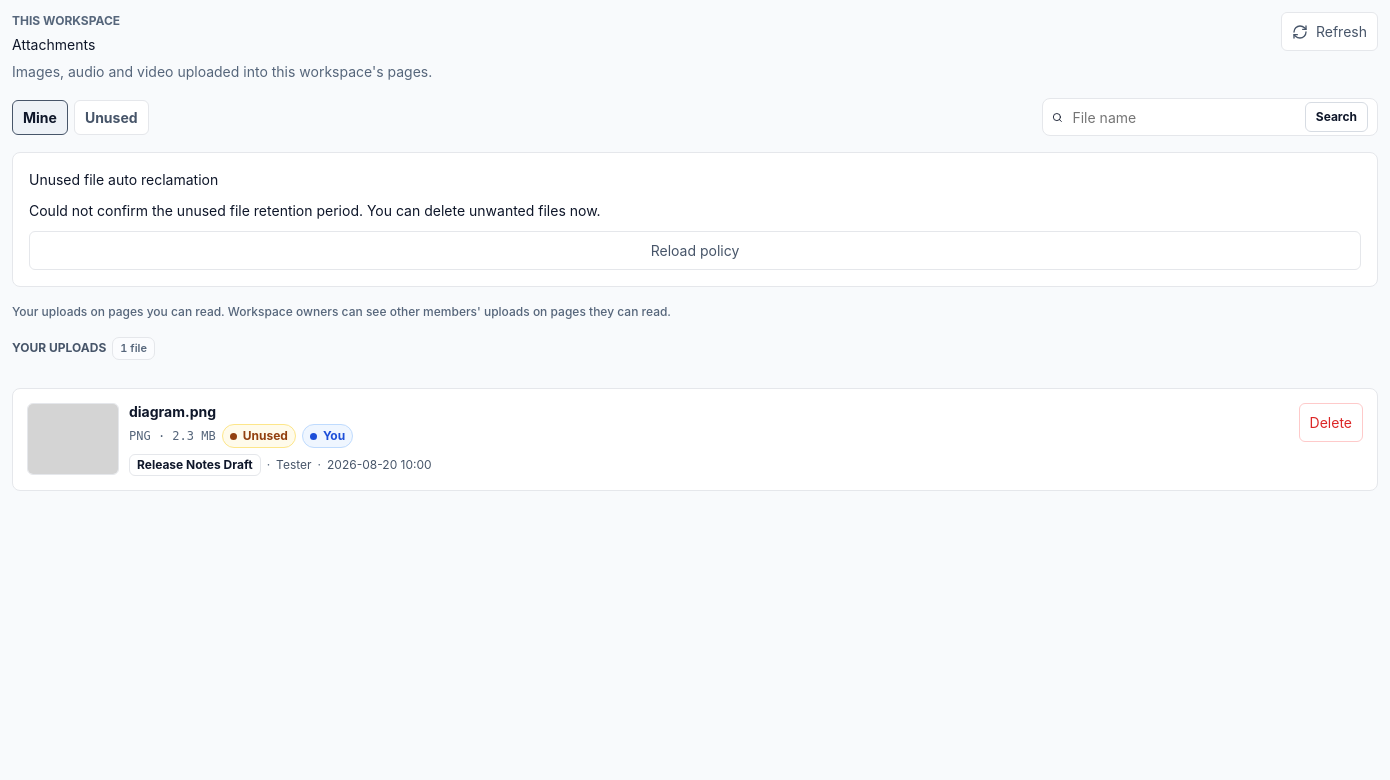
Test: AttachmentsSection › explains a 409 as someone else using the file, not as a generic failure
Check: the text "diagram.png" is shown, box [129,402,216,420]
What coordinates should you click on to do the following:
click the button "Delete"
I would click on:
 (1331, 422)
Its box is [1299,402,1363,442].
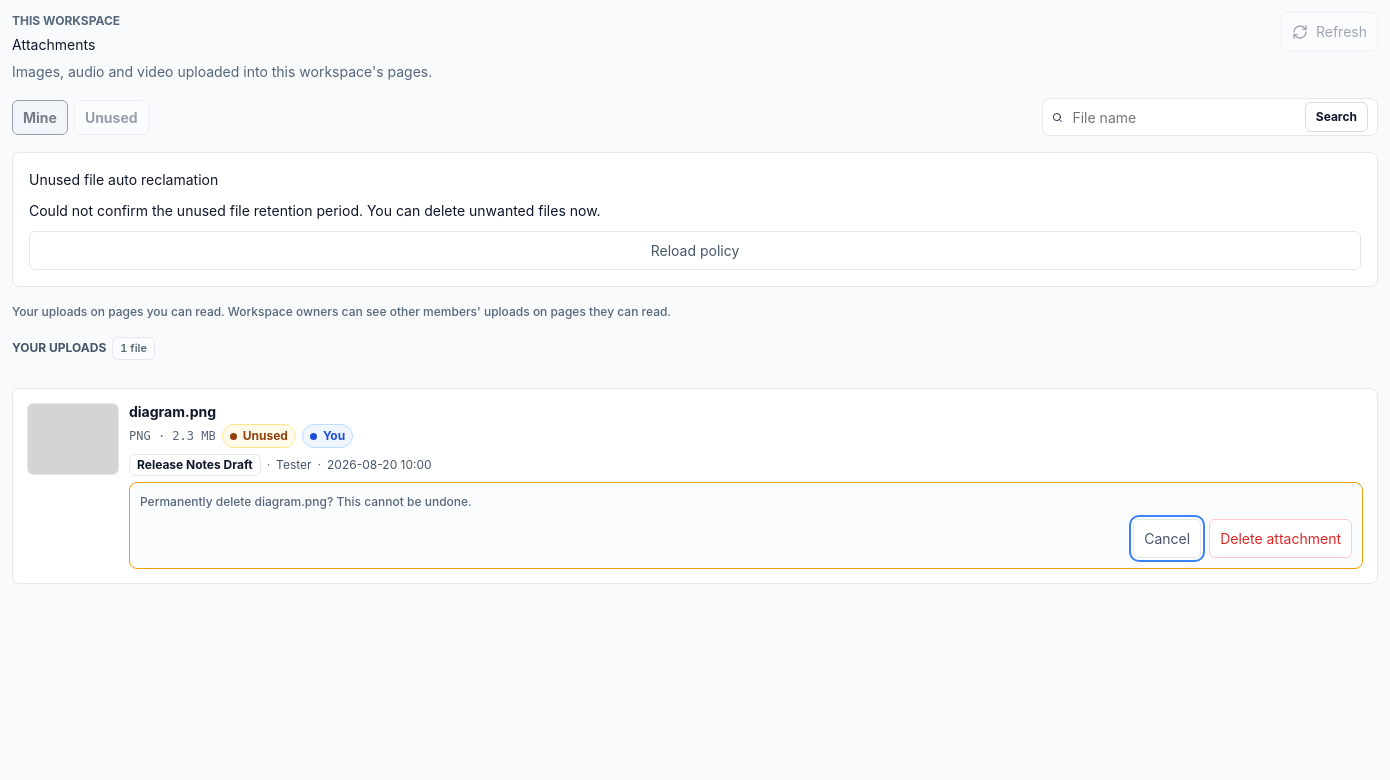
What coordinates should you click on to do the following:
click the button "Delete attachment"
I would click on:
 (1281, 539)
Its box is [1209,519,1352,558].
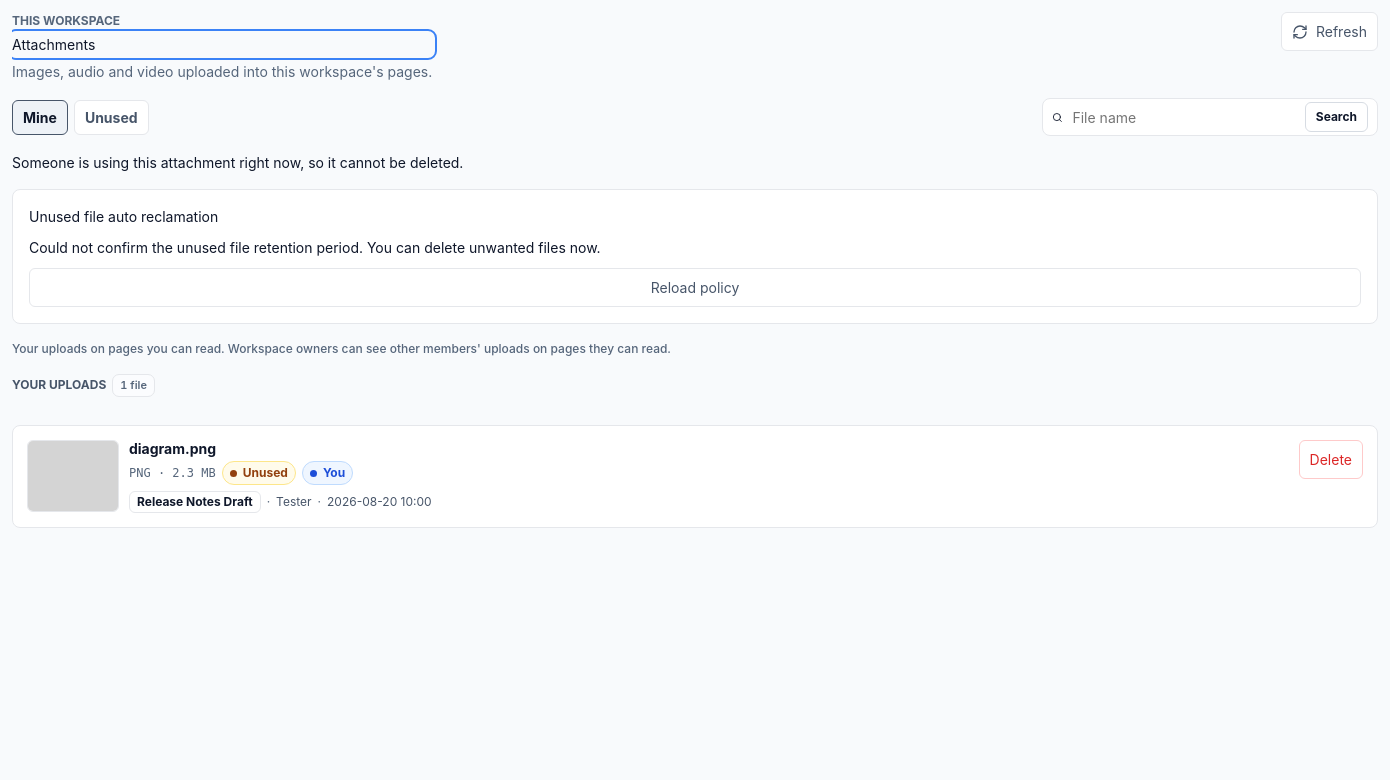
Check: the text "Someone is using this attachment right now, so it cannot be deleted." is shown, box [12,154,463,171]
